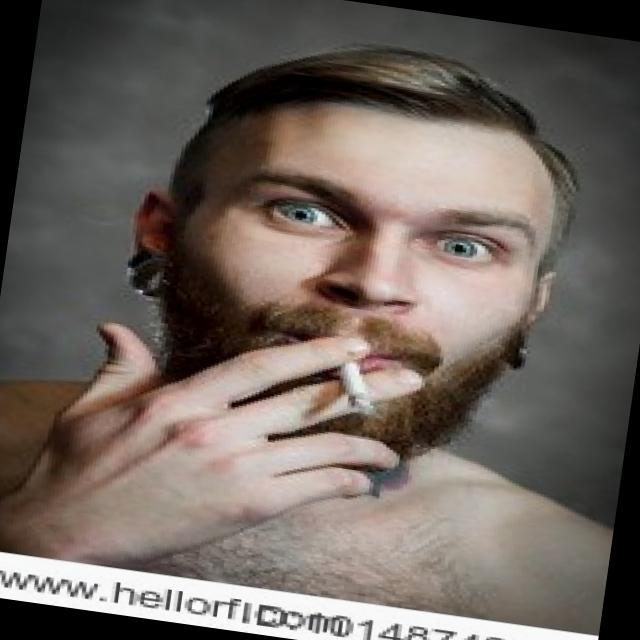cigarette: (325, 352, 391, 415)
